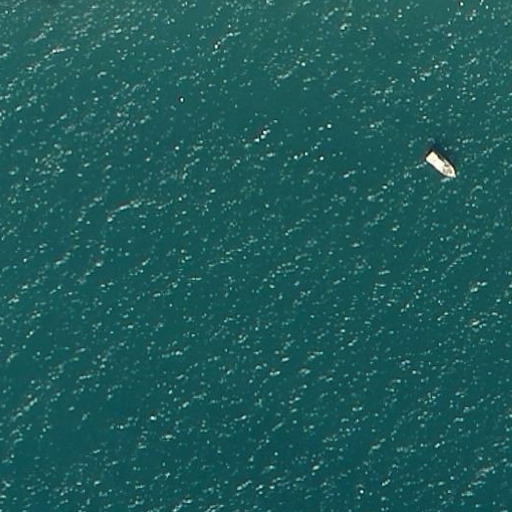ship: (423, 148, 459, 181)
